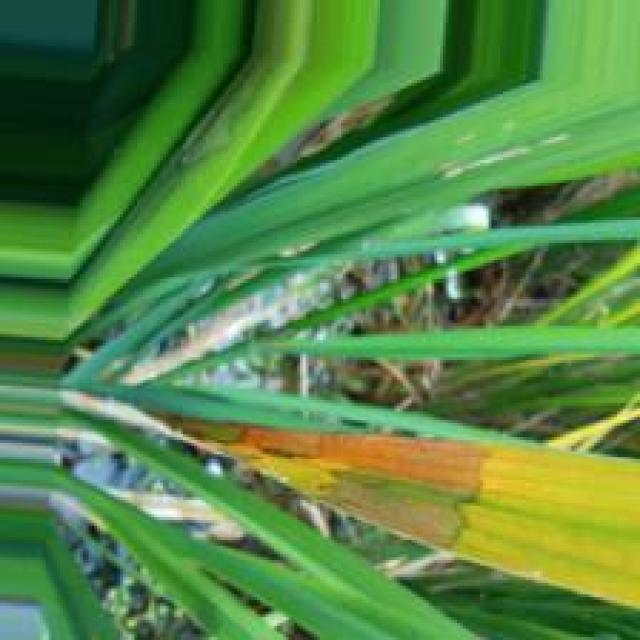Leaf_Scald: (160, 414, 494, 554)
